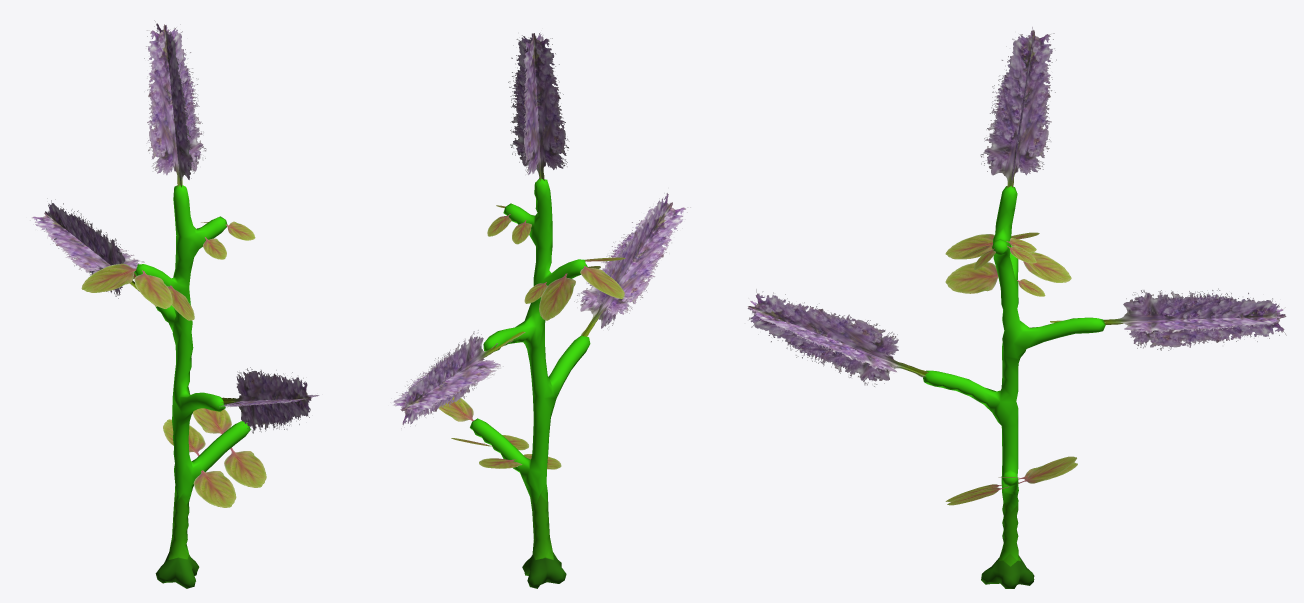
Rendered from alcacuz.fbx.
3 views of the same model, side by side, from view 1: azimuth 30°, elevation 25°; view 2: azimuth 150°, elevation 25°; view 3: azimuth 270°, elevation 25° (orthographic).
Parts seen in each view (by area): view 1: alcaçuzFlor, alacacuz, alcaçuzFolha; view 2: alcaçuzFlor, alacacuz, alcaçuzFolha; view 3: alcaçuzFlor, alacacuz, alcaçuzFolha.
Part boxes in pixels (<box>): alcaçuzFlor: <box>30,20,319,433</box>; alacacuz: <box>134,185,250,588</box>; alcaçuzFolha: <box>81,221,266,507</box>; alcaçuzFlor: <box>390,32,690,428</box>; alacacuz: <box>470,178,590,588</box>; alcaçuzFolha: <box>438,205,625,469</box>; alcaçuzFlor: <box>747,27,1286,386</box>; alacacuz: <box>923,186,1105,588</box>; alcaçuzFolha: <box>945,232,1077,505</box>.
Size of the model in its own units: 22.79 by 57.77 by 52.13.
